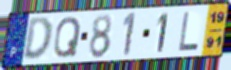1: (121, 11, 137, 58), (156, 12, 169, 53)
8: (87, 13, 115, 59)
D: (21, 16, 54, 63)
L: (177, 11, 201, 52)
Q: (52, 16, 83, 60)
